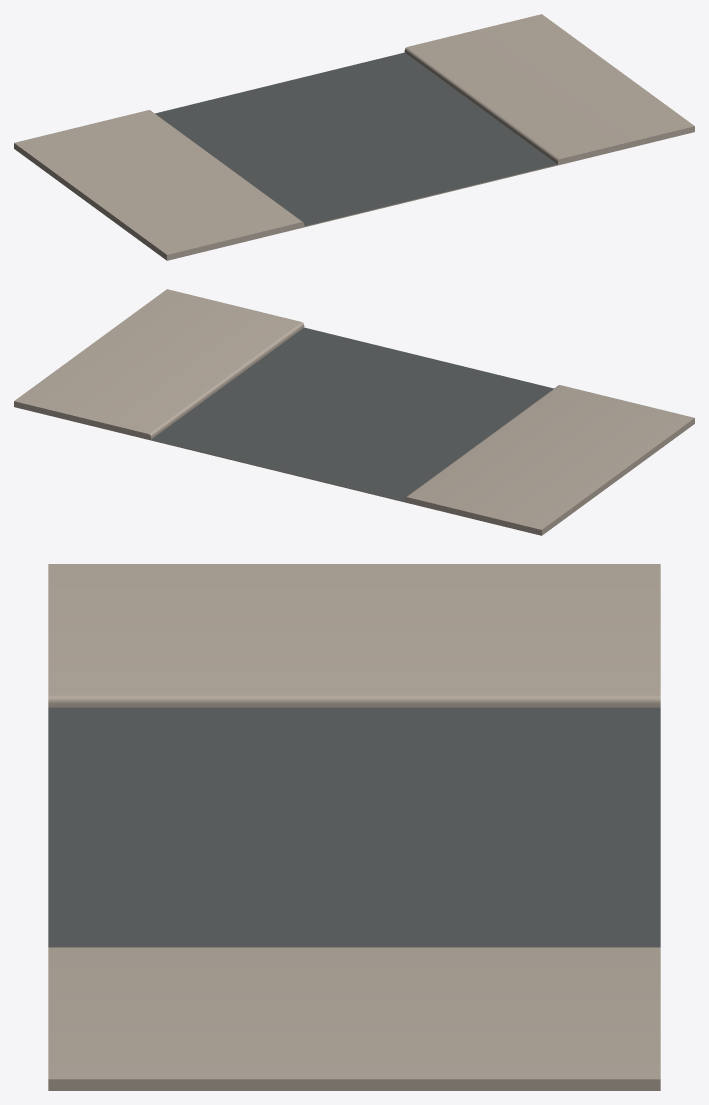
File: KA_route_trotoir.fbx
3 renders of one model, top to bottom at view 1: azimuth 30°, elevation 25°; view 2: azimuth 150°, elevation 25°; view 3: azimuth 270°, elevation 25°, orthographic. The views are drawn at different scales.
Visible parts, largest first — view 1: Box001; view 2: Box001; view 3: Box001.
Part boxes in pixels (<box>): Box001: <box>14,14,694,260</box>; Box001: <box>14,289,694,535</box>; Box001: <box>48,564,660,1090</box>.
Bounding box in the file's own units: 1858 × 19.81 × 933.
